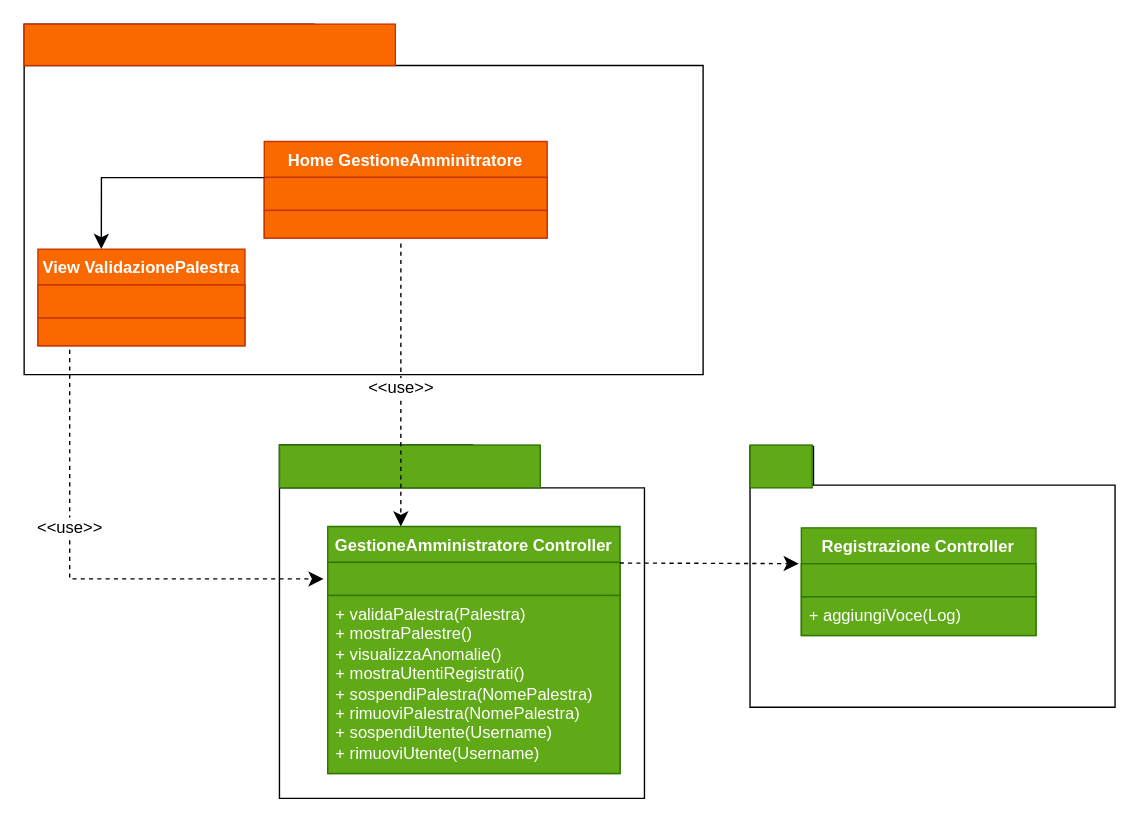
Some shapes in this 1140 by 822 pixel diagram are drawn without their labels. The shapes that lost their labels are listed below. From the top down, each one's centre as x and y in pixels, then its label:
At [209,44]: "Interfaccia GestioneAmministratore".
At [409,466]: "GestioneAmministratore".
At [780,466]: "Log".
